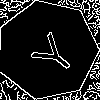Y: (22, 25, 80, 80)
